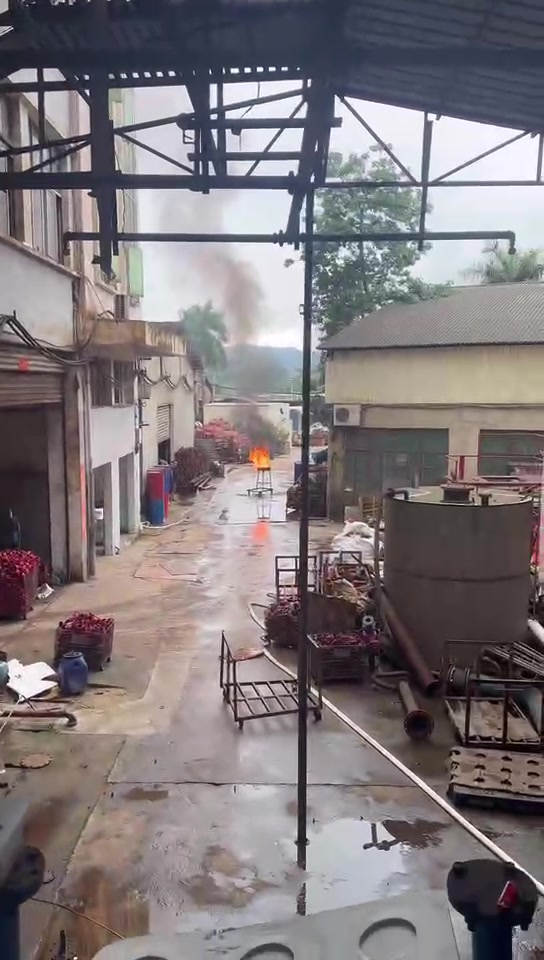fire: (248, 446, 269, 467)
